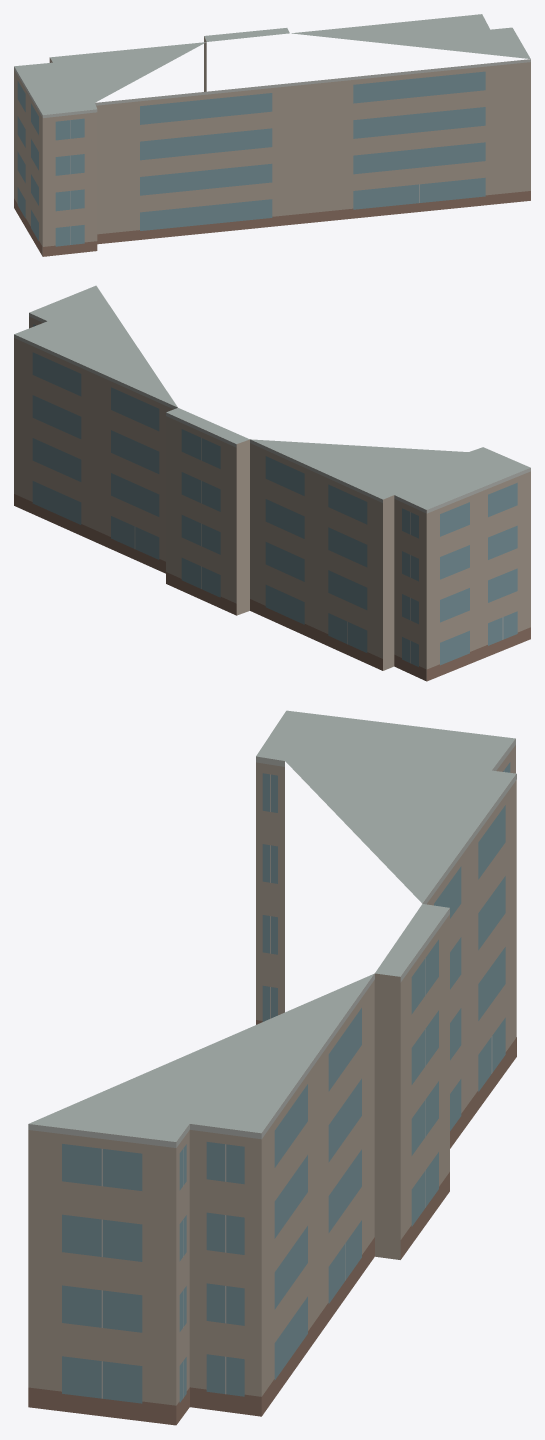
The model's file is survey-upis-32754207.glb.
3 views of the same model, one above another, from view 1: azimuth 30°, elevation 25°; view 2: azimuth 150°, elevation 25°; view 3: azimuth 270°, elevation 25° (orthographic). The views are drawn at different scales.
Parts seen in each view (by area): view 1: survey-upis-32754207.tmp; view 2: survey-upis-32754207.tmp; view 3: survey-upis-32754207.tmp.
Part boxes in pixels (bbox=[...]): survey-upis-32754207.tmp: bbox=[14, 14, 530, 256]; survey-upis-32754207.tmp: bbox=[14, 285, 530, 681]; survey-upis-32754207.tmp: bbox=[28, 710, 516, 1425].
Size of the model in its own units: 37.92 by 11.6 by 18.14.
